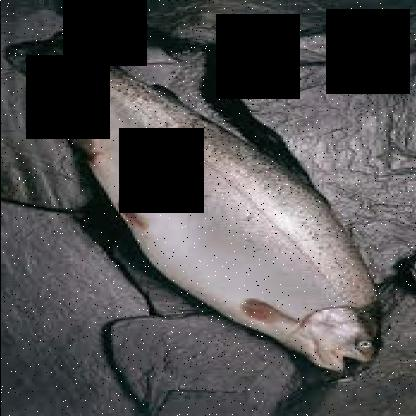fish: (6, 28, 384, 370)
